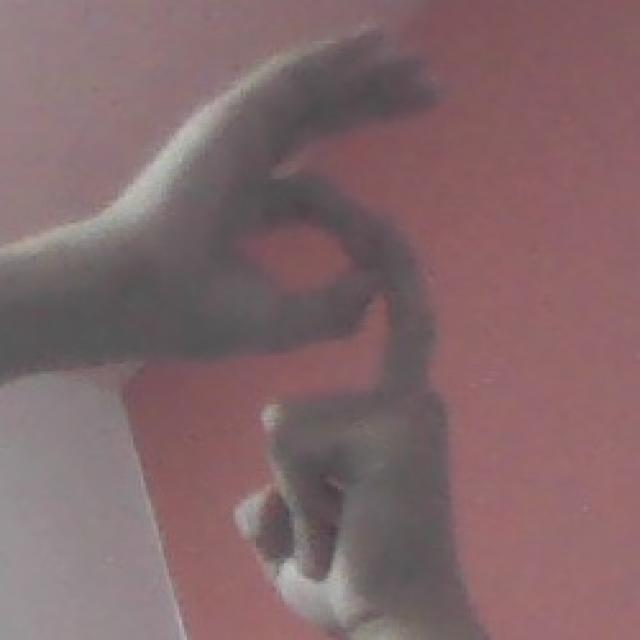Alphabet-P: (123, 12, 515, 640)
